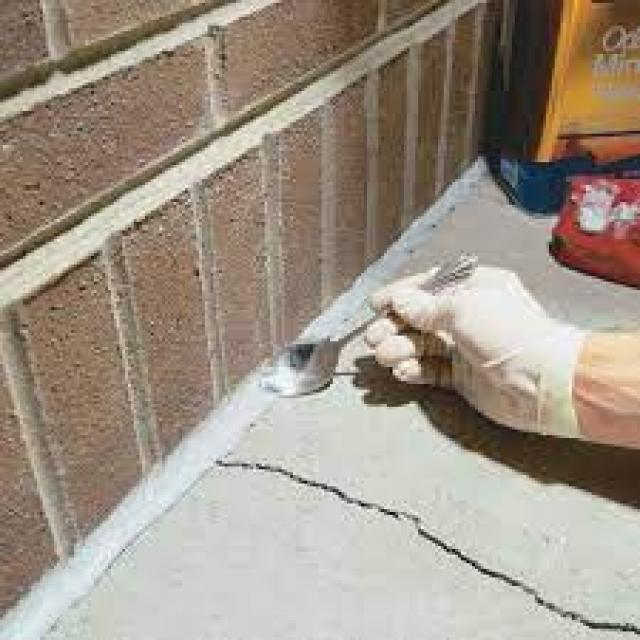Crack: (211, 452, 637, 632)
